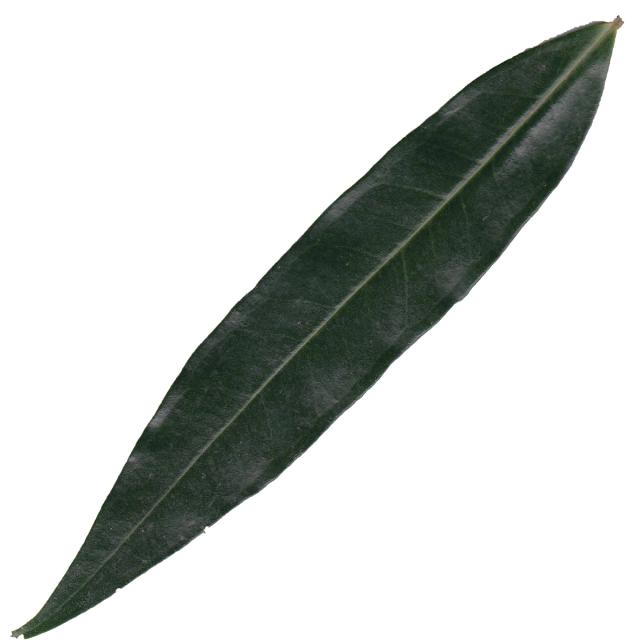Medicinal-Rose Apple: (8, 19, 640, 640)
